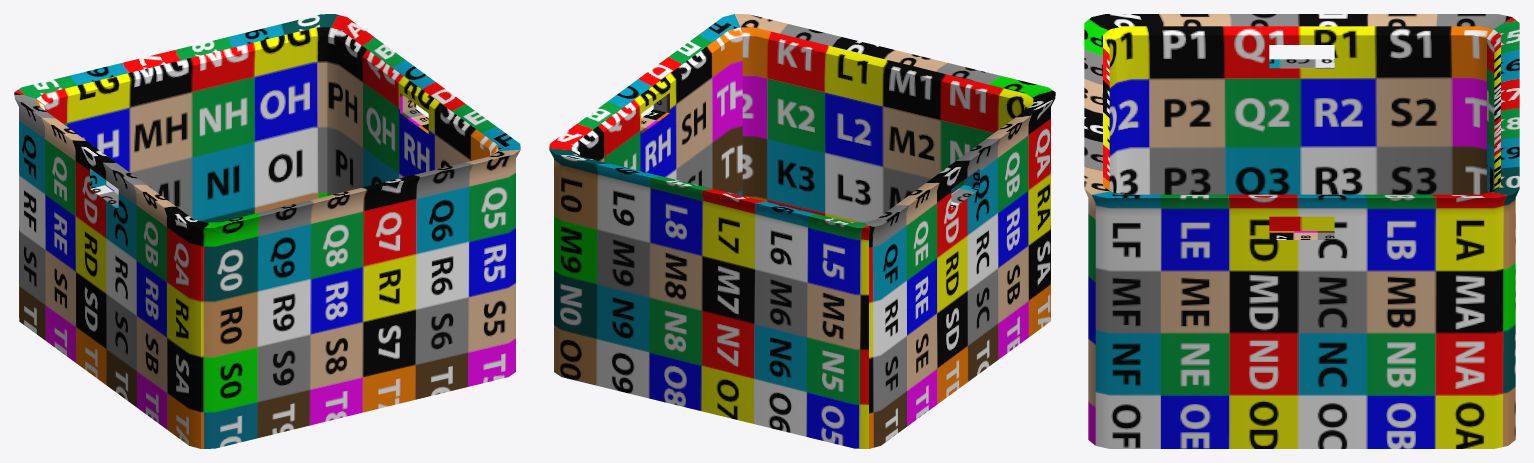
The model's file is Basket1.FBX.
3 views of the same model, side by side, from view 1: azimuth 30°, elevation 25°; view 2: azimuth 150°, elevation 25°; view 3: azimuth 270°, elevation 25° (orthographic). The views are drawn at different scales.
Visible parts, largest first — view 1: basket1; view 2: basket1; view 3: basket1.
Part boxes in pixels (bbox=[...]): basket1: bbox=[14, 14, 520, 448]; basket1: bbox=[549, 14, 1055, 448]; basket1: bbox=[1084, 14, 1519, 448].
Size of the model in its own units: 0.9136 by 0.5853 by 0.9136.
Materials: 1 (1 with a texture image).
